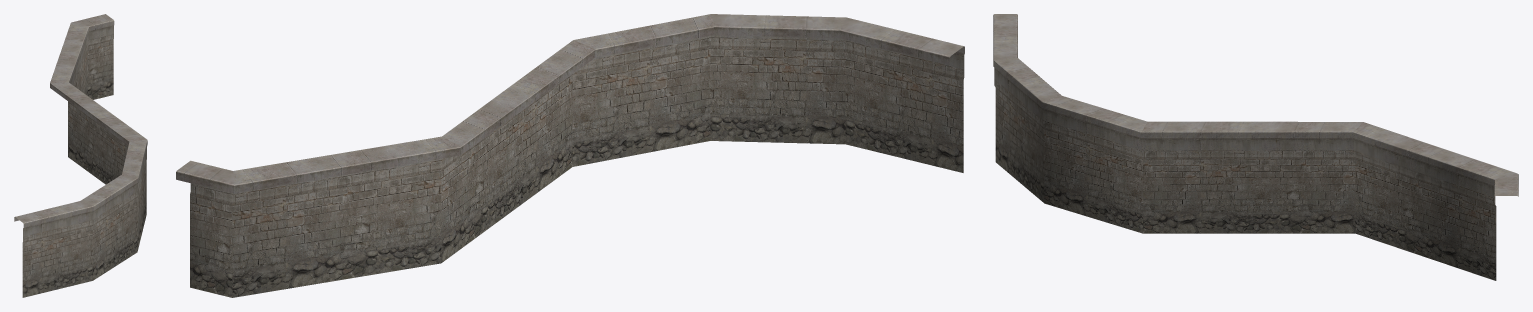
The model's file is Wall5.fbx.
3 renders of one model, left to right at view 1: azimuth 30°, elevation 25°; view 2: azimuth 150°, elevation 25°; view 3: azimuth 270°, elevation 25°, orthographic. The views are drawn at different scales.
Parts seen in each view (by area): view 1: LV_Campagna_Dock_DockWall05_SM_SVR; view 2: LV_Campagna_Dock_DockWall05_SM_SVR; view 3: LV_Campagna_Dock_DockWall05_SM_SVR.
Part boxes in pixels (x1,y1,x2,y2): LV_Campagna_Dock_DockWall05_SM_SVR: (14,14,147,297); LV_Campagna_Dock_DockWall05_SM_SVR: (176,14,964,297); LV_Campagna_Dock_DockWall05_SM_SVR: (993,14,1518,280).
Size of the model in its own units: 7.36 by 1.92 by 8.97.
